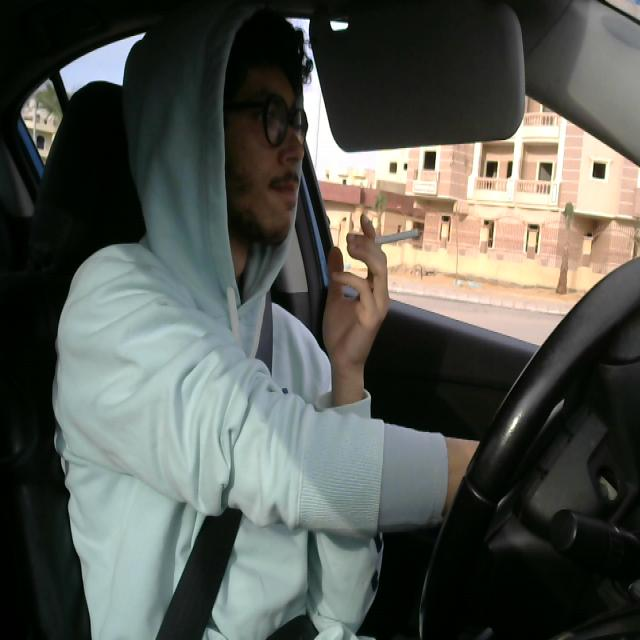smoking: (352, 220, 422, 250)
